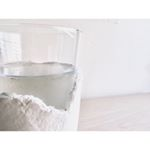cups: (1, 21, 85, 111)
